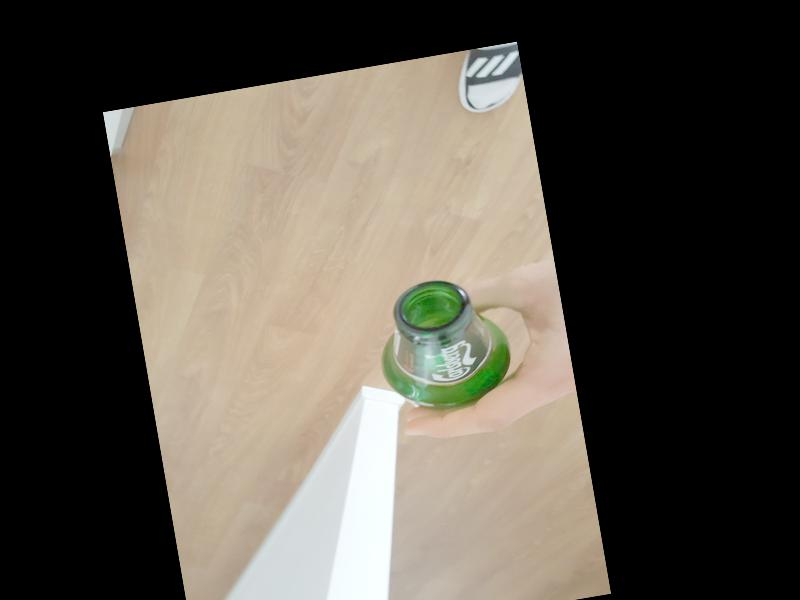Beer: (368, 269, 520, 419)
